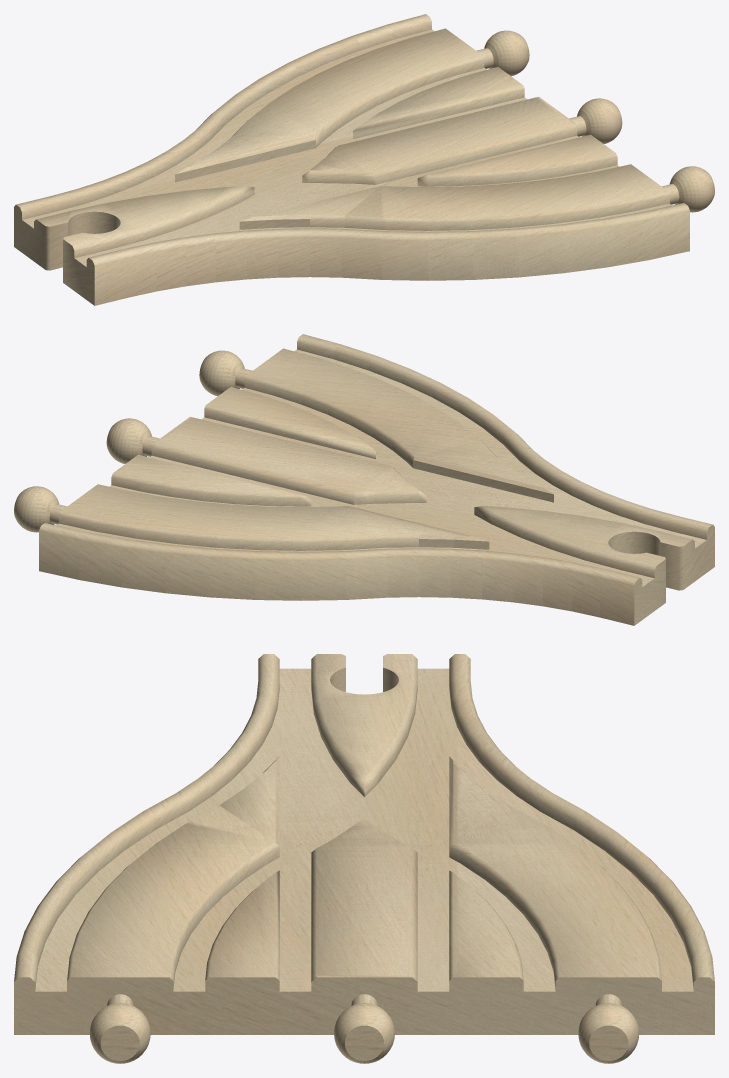
3 renders of one model, top to bottom at view 1: azimuth 30°, elevation 25°; view 2: azimuth 150°, elevation 25°; view 3: azimuth 270°, elevation 25°, orthographic. The views are drawn at different scales.
Parts seen in each view (by area): view 1: SketchUp (×2), _3d_peg (×3); view 2: SketchUp (×2), _3d_peg (×3); view 3: SketchUp (×2), _3d_peg (×3).
Boxes of the visible parts, x1,y1,x2,y2 form: SketchUp (×2): (14, 14, 689, 305); _3d_peg (×3): (476, 30, 714, 212); SketchUp (×2): (39, 334, 714, 625); _3d_peg (×3): (14, 350, 252, 532); SketchUp (×2): (14, 654, 714, 1034); _3d_peg (×3): (89, 994, 639, 1063).
Bounding box in the file's own units: 6.32 × 5.2 × 0.4724.
